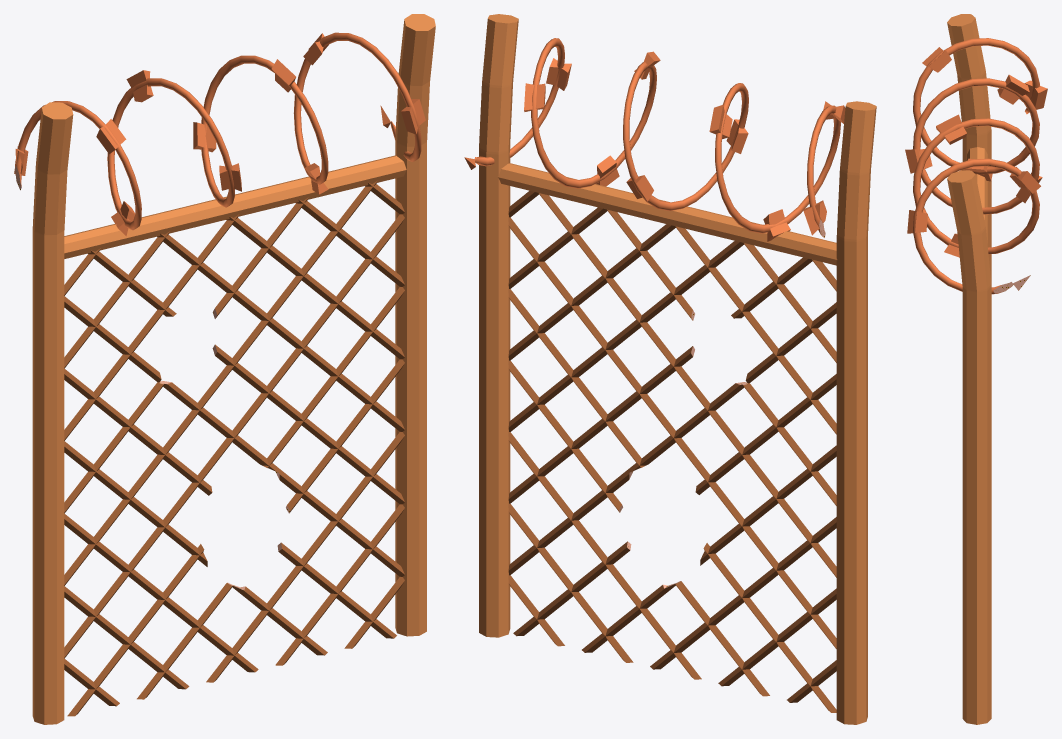
The model's file is Fence_Wire_2_2.fbx.
3 renders of one model, left to right at view 1: azimuth 30°, elevation 25°; view 2: azimuth 150°, elevation 25°; view 3: azimuth 270°, elevation 25°, orthographic. The views are drawn at different scales.
Parts seen in each view (by area): view 1: Fence_Wire_2_2; view 2: Fence_Wire_2_2; view 3: Fence_Wire_2_2.
Part boxes in pixels (x1,y1,x2,y2): Fence_Wire_2_2: (14,14,435,724); Fence_Wire_2_2: (464,14,876,724); Fence_Wire_2_2: (905,14,1047,724).
Bounding box in the file's own units: 200 × 301 × 71.47.
